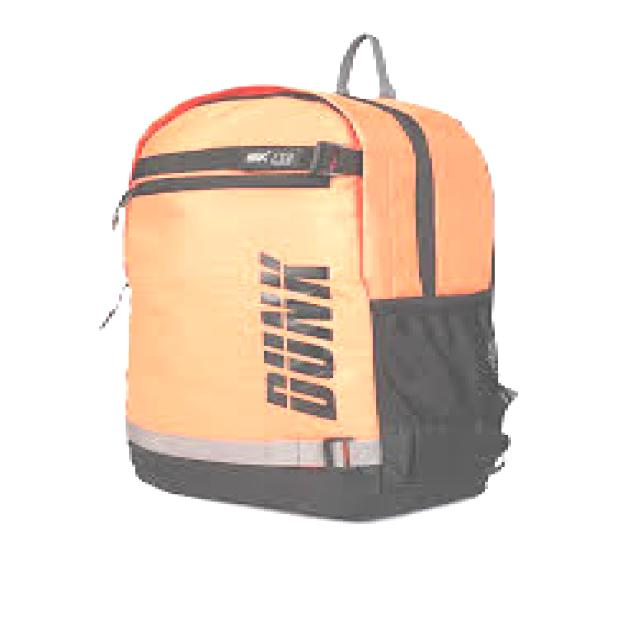backpack: (100, 31, 519, 523)
